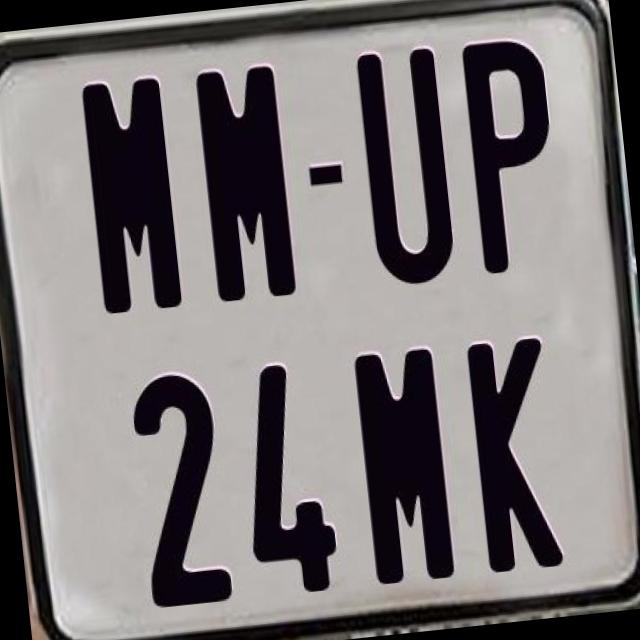2: (125, 366, 232, 604)
4: (234, 360, 344, 598)
K: (466, 335, 564, 573)
M: (350, 347, 457, 592), (195, 64, 299, 305), (80, 77, 184, 316)
P: (459, 35, 572, 282)
U: (354, 44, 464, 294)
